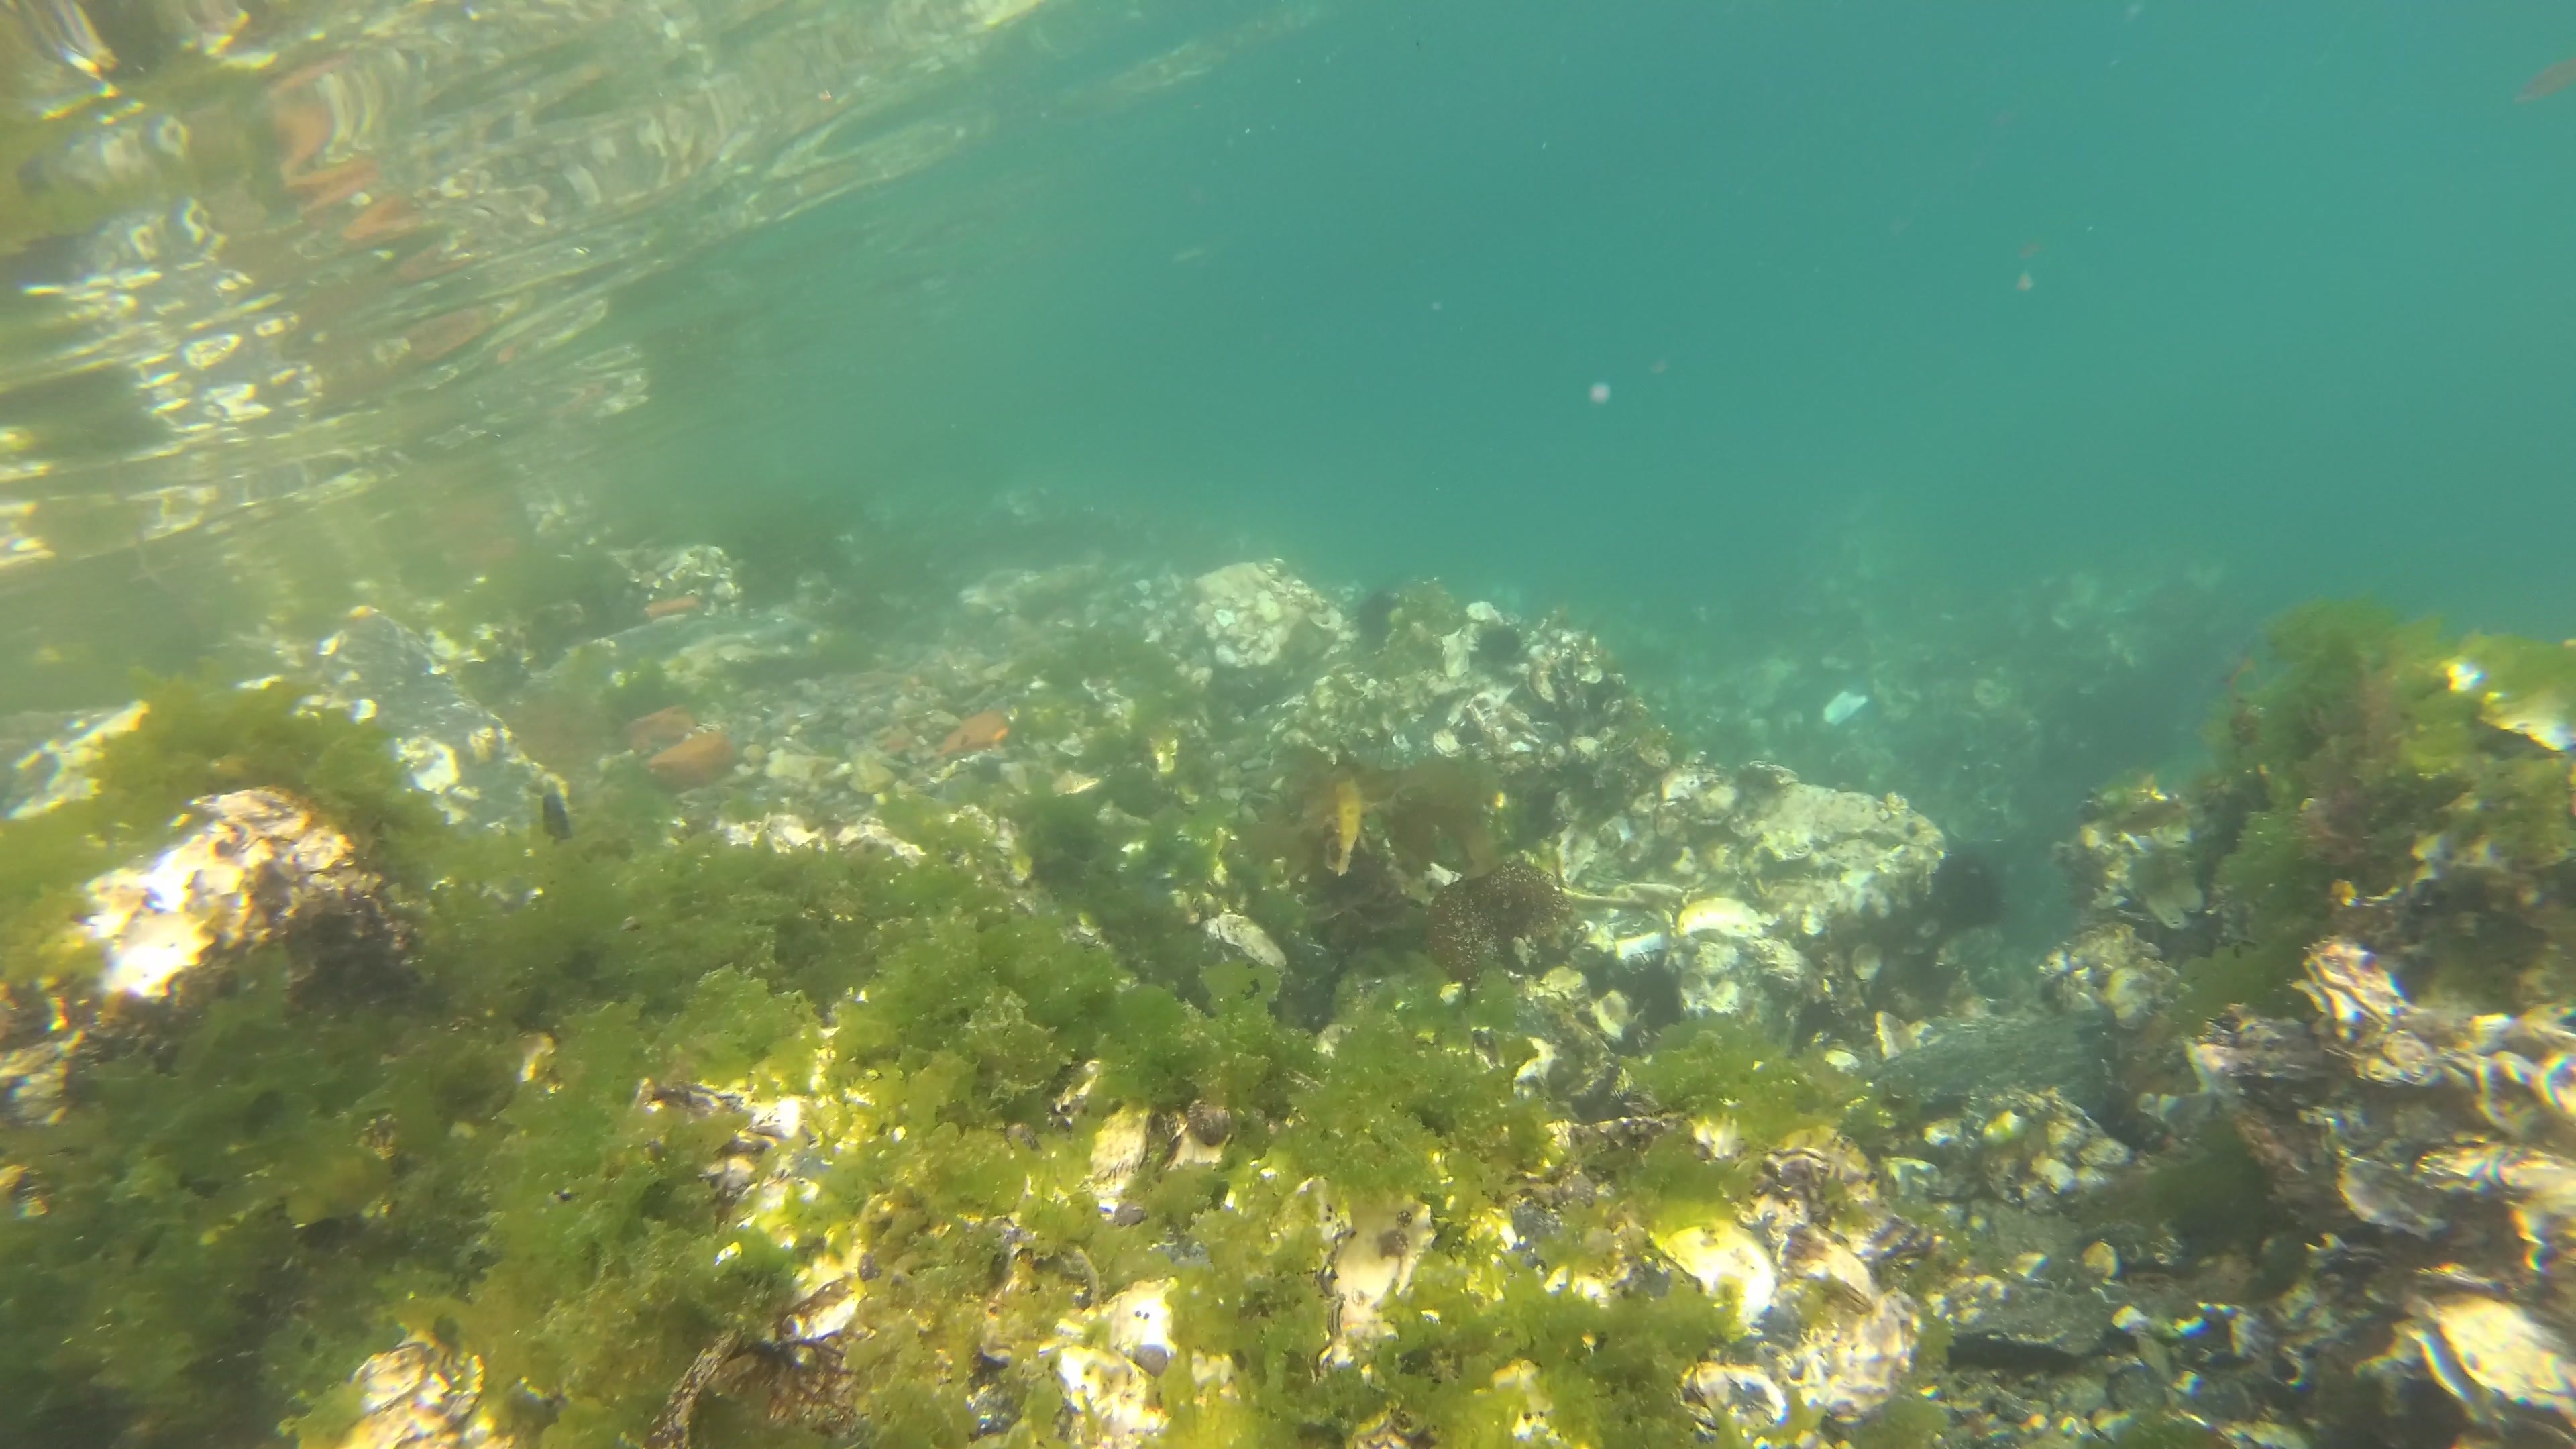echinus: (1608, 957, 1691, 1035), (1928, 849, 2003, 931), (1477, 616, 1527, 674), (1350, 596, 1405, 642)
